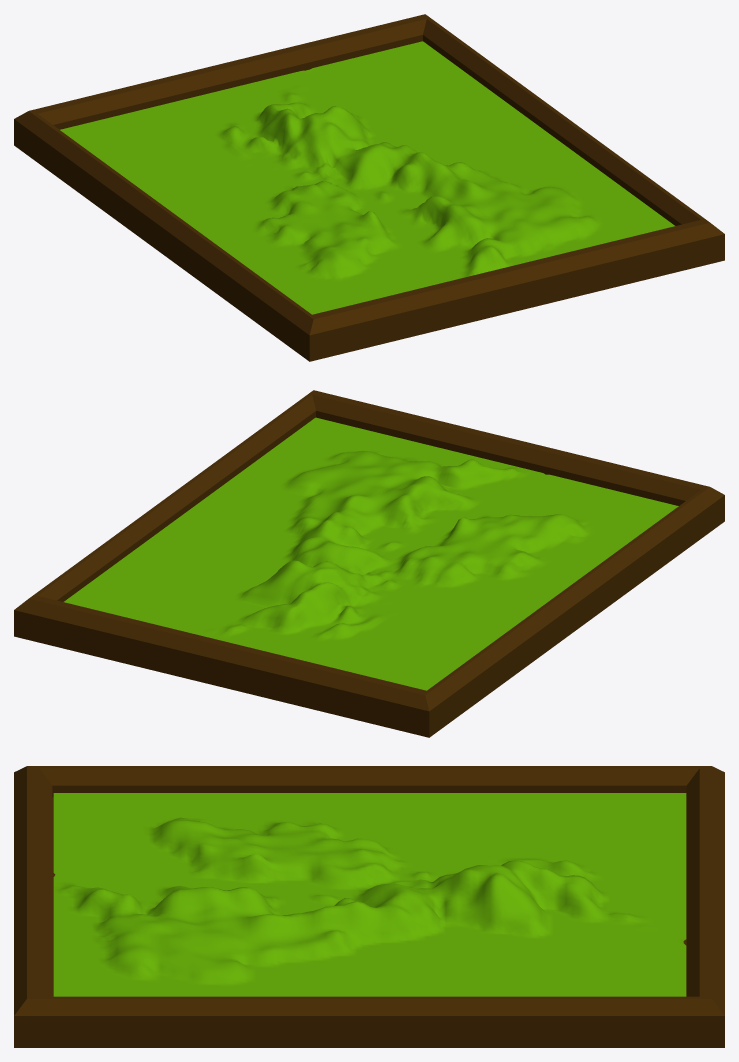
Rendered from Uk_Map.fbx.
3 renders of one model, top to bottom at view 1: azimuth 30°, elevation 25°; view 2: azimuth 150°, elevation 25°; view 3: azimuth 270°, elevation 25°, orthographic. The views are drawn at different scales.
Parts seen in each view (by area): view 1: pPlane2, PM3D_UK_2:polySurface6; view 2: pPlane2, PM3D_UK_2:polySurface6; view 3: pPlane2, PM3D_UK_2:polySurface6.
Part boxes in pixels (bbox=[...]): pPlane2: bbox=[60, 41, 674, 314]; PM3D_UK_2:polySurface6: bbox=[14, 14, 724, 361]; pPlane2: bbox=[64, 417, 678, 690]; PM3D_UK_2:polySurface6: bbox=[14, 390, 724, 737]; pPlane2: bbox=[53, 793, 686, 996]; PM3D_UK_2:polySurface6: bbox=[14, 766, 724, 1047].
Bounding box in the file's own units: 91.31 × 10.95 × 113.
